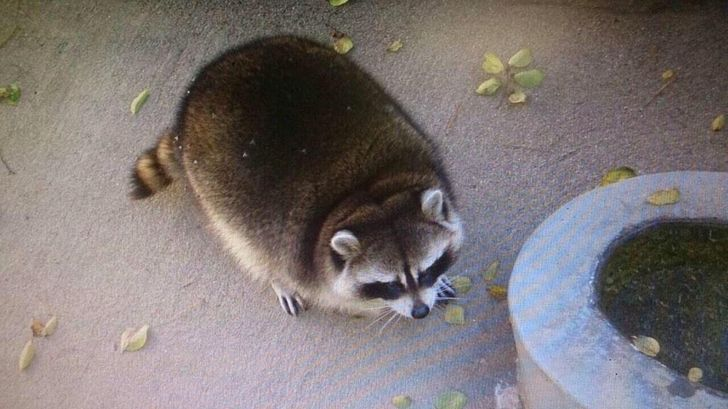raccoon: (166, 36, 468, 325)
